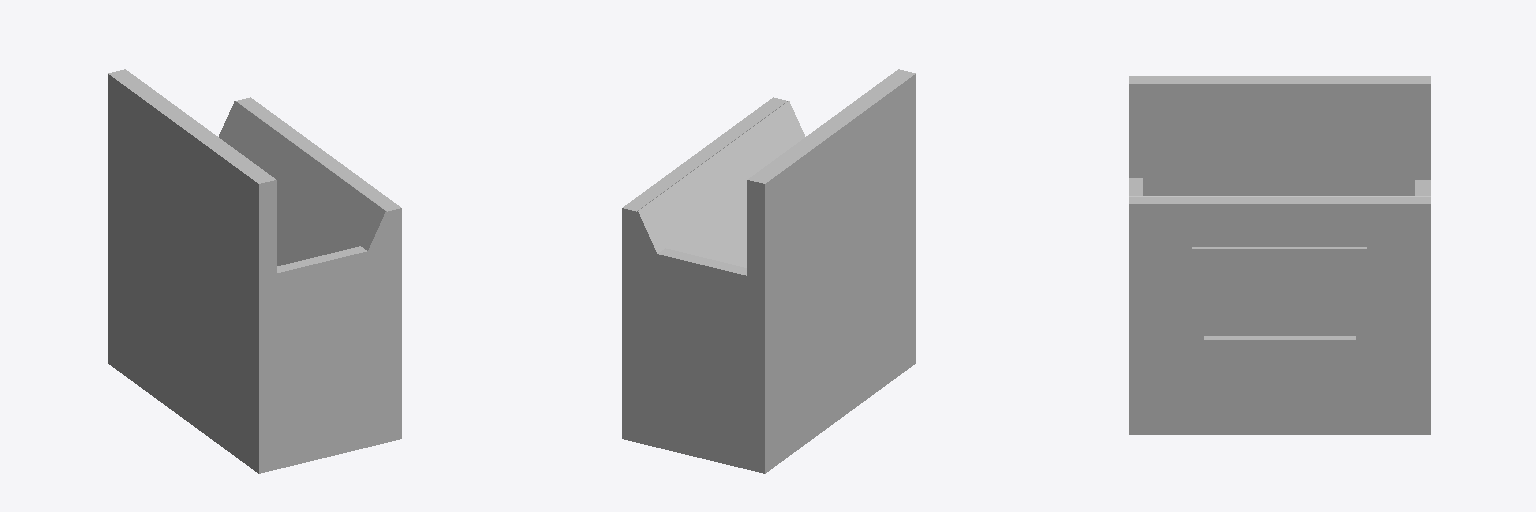
Rendered from Clock out.obj.
The picture shows the model from 3 angles: view 1: azimuth 30°, elevation 25°; view 2: azimuth 150°, elevation 25°; view 3: azimuth 270°, elevation 25°; orthographic projection.
Parts seen in each view (by area): view 1: Cube; view 2: Cube; view 3: Cube.
Part boxes in pixels (left/top/right/bottom): Cube: left=108, top=69, right=401, bottom=473; Cube: left=622, top=69, right=915, bottom=473; Cube: left=1129, top=76, right=1430, bottom=434.
Bounding box in the file's own units: 1.11 × 2.12 × 2.